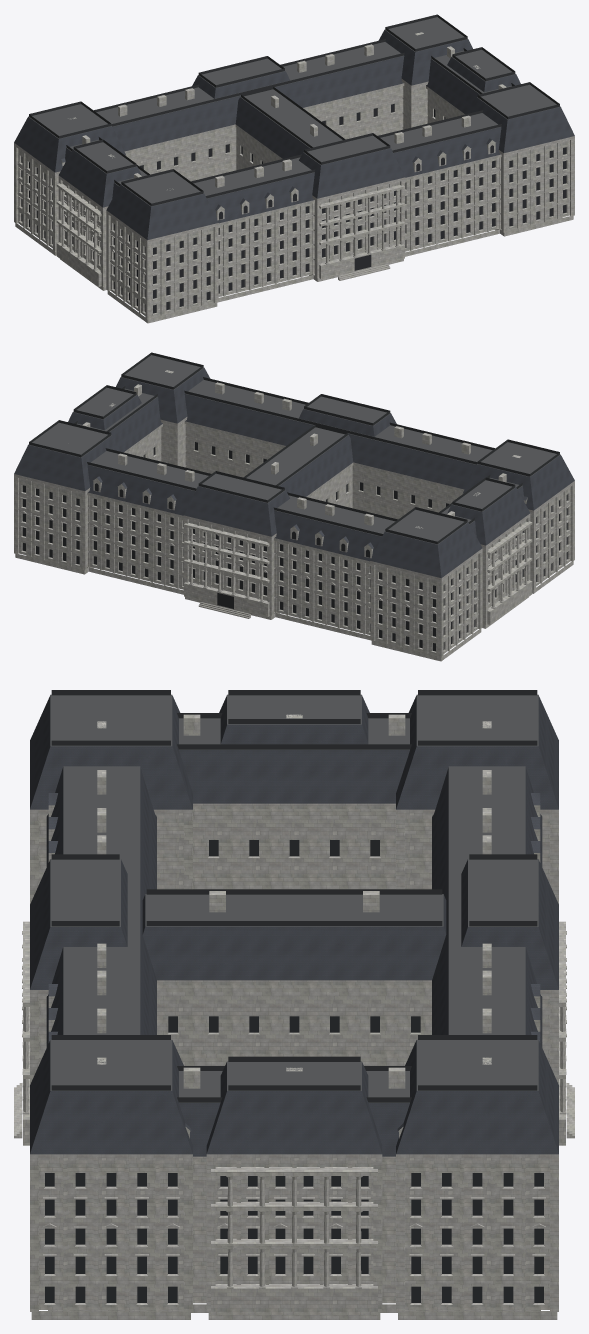
Rendered from eeob.glb.
3 views of the same model, one above another, from view 1: azimuth 30°, elevation 25°; view 2: azimuth 150°, elevation 25°; view 3: azimuth 270°, elevation 25° (orthographic). The views are drawn at different scales.
Parts seen in each view (by area): view 1: eeob; view 2: eeob; view 3: eeob.
Boxes of the visible parts, x1=… form: eeob: x1=14, y1=14, x2=574, y2=323; eeob: x1=14, y1=352, x2=574, y2=661; eeob: x1=14, y1=690, x2=574, y2=1319.
Size of the model in its own units: 155 by 38.9 by 87.46.
3 materials, 3 textured.
